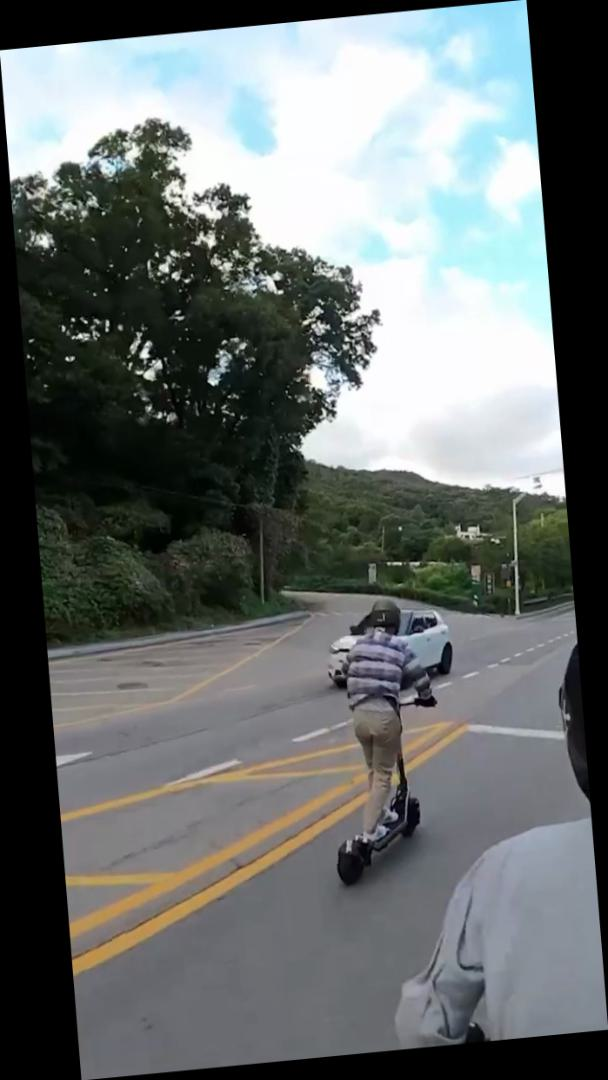helmet: (312, 594, 451, 888)
